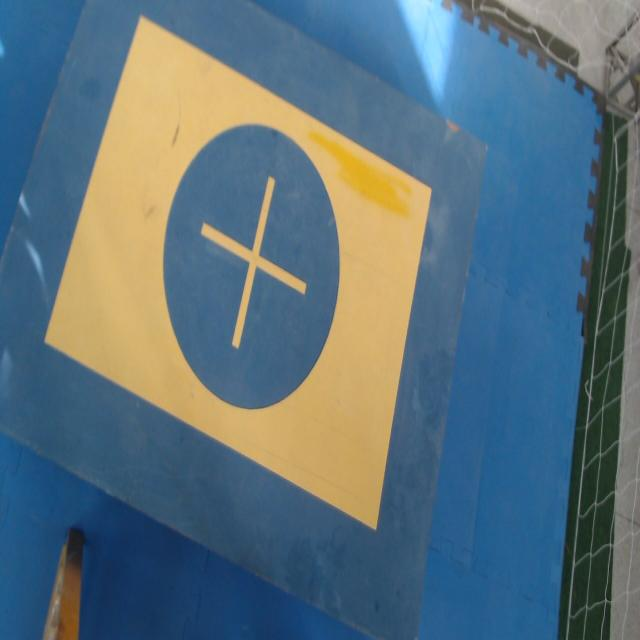base_inicio: (44, 14, 431, 529)
